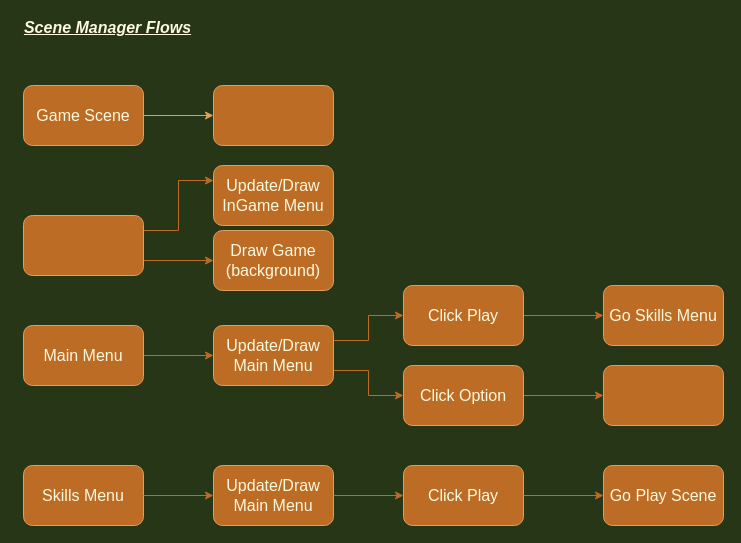
Image size: 741x543. Some labels were removed from this diagram. Here are the shapes that lost their labels. From the top down, the centre of each, then its label:
(273,115): Update/Draw Game
(83,245): InGame Menu
(663,395): Go Option Scene
